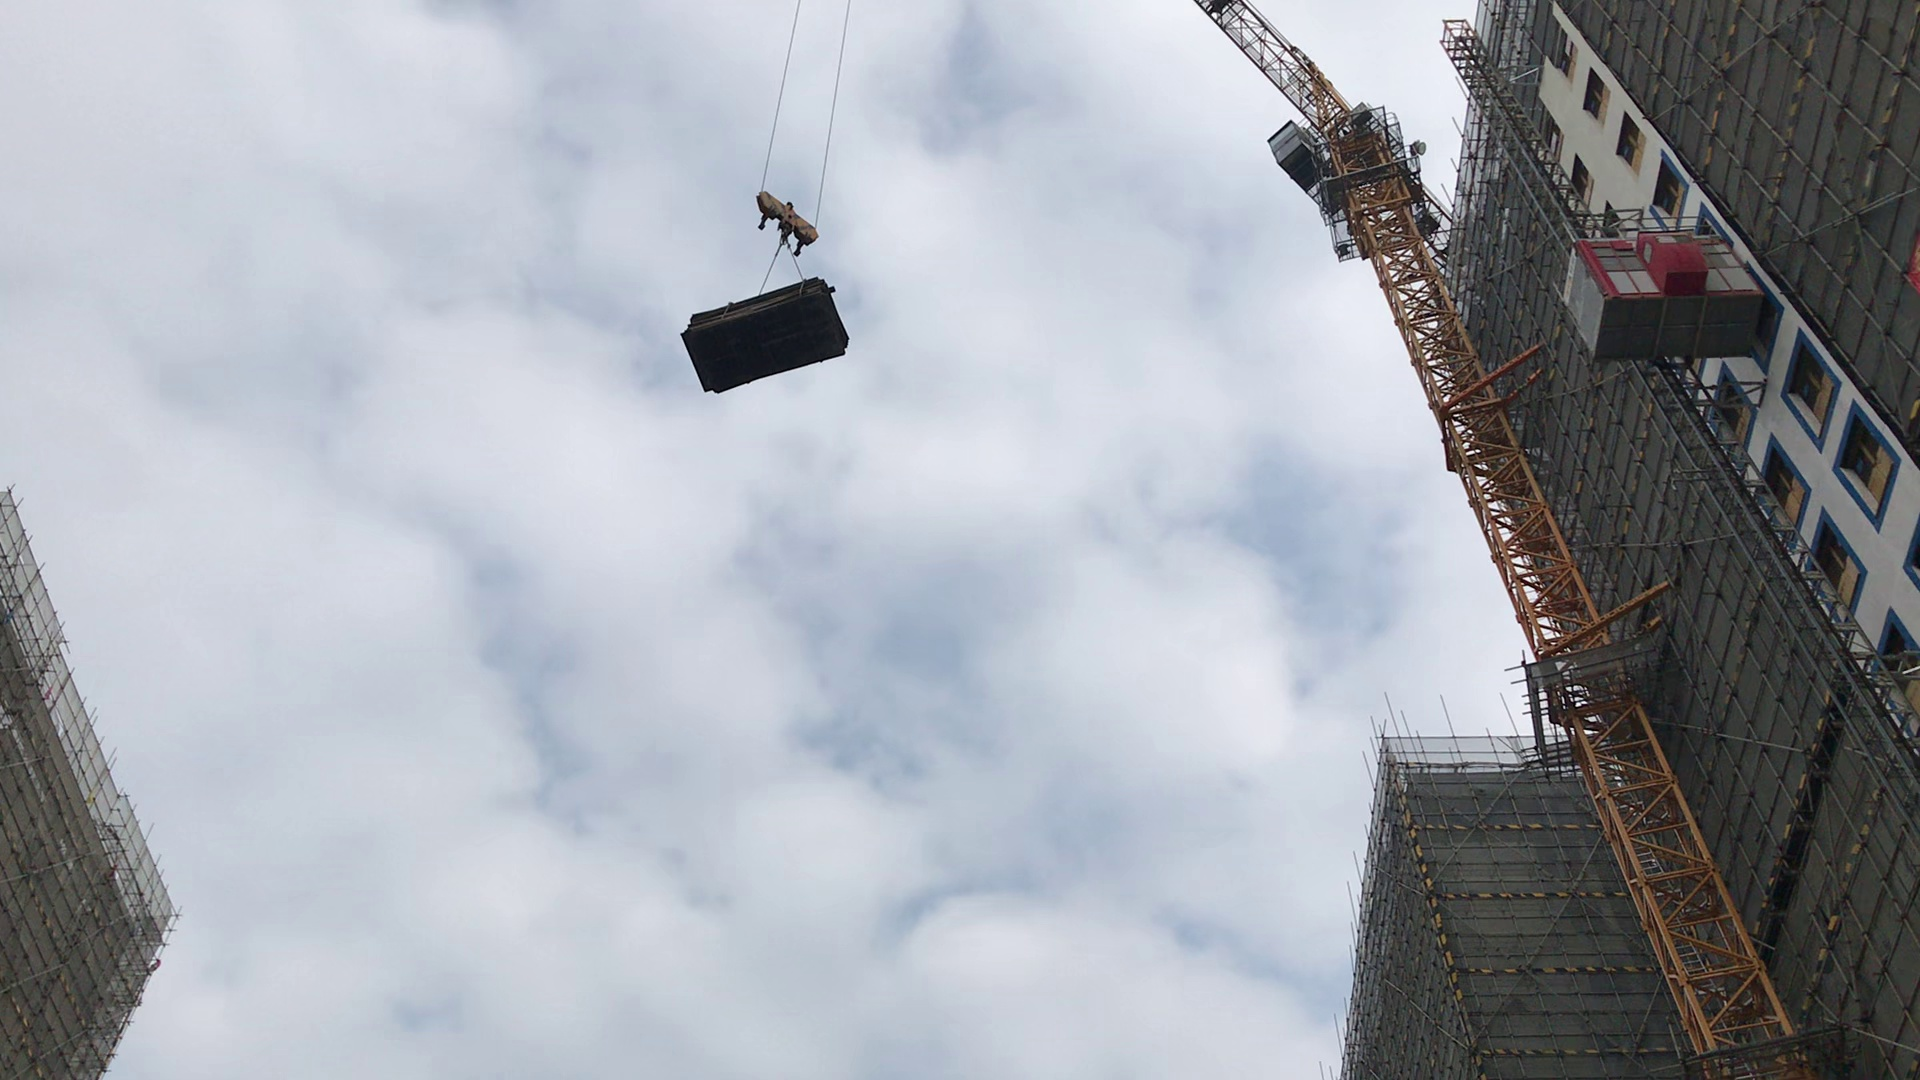board: (658, 276, 872, 407)
hook: (731, 179, 845, 265)
